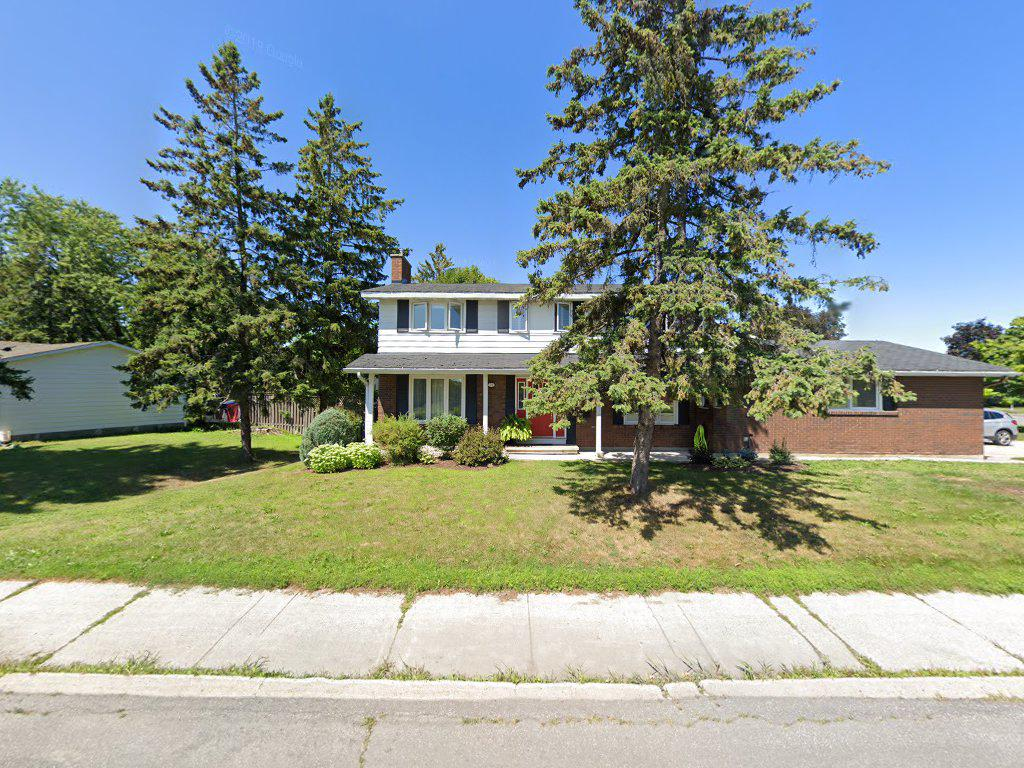trunk: (631, 404, 658, 498), (235, 402, 259, 462)
